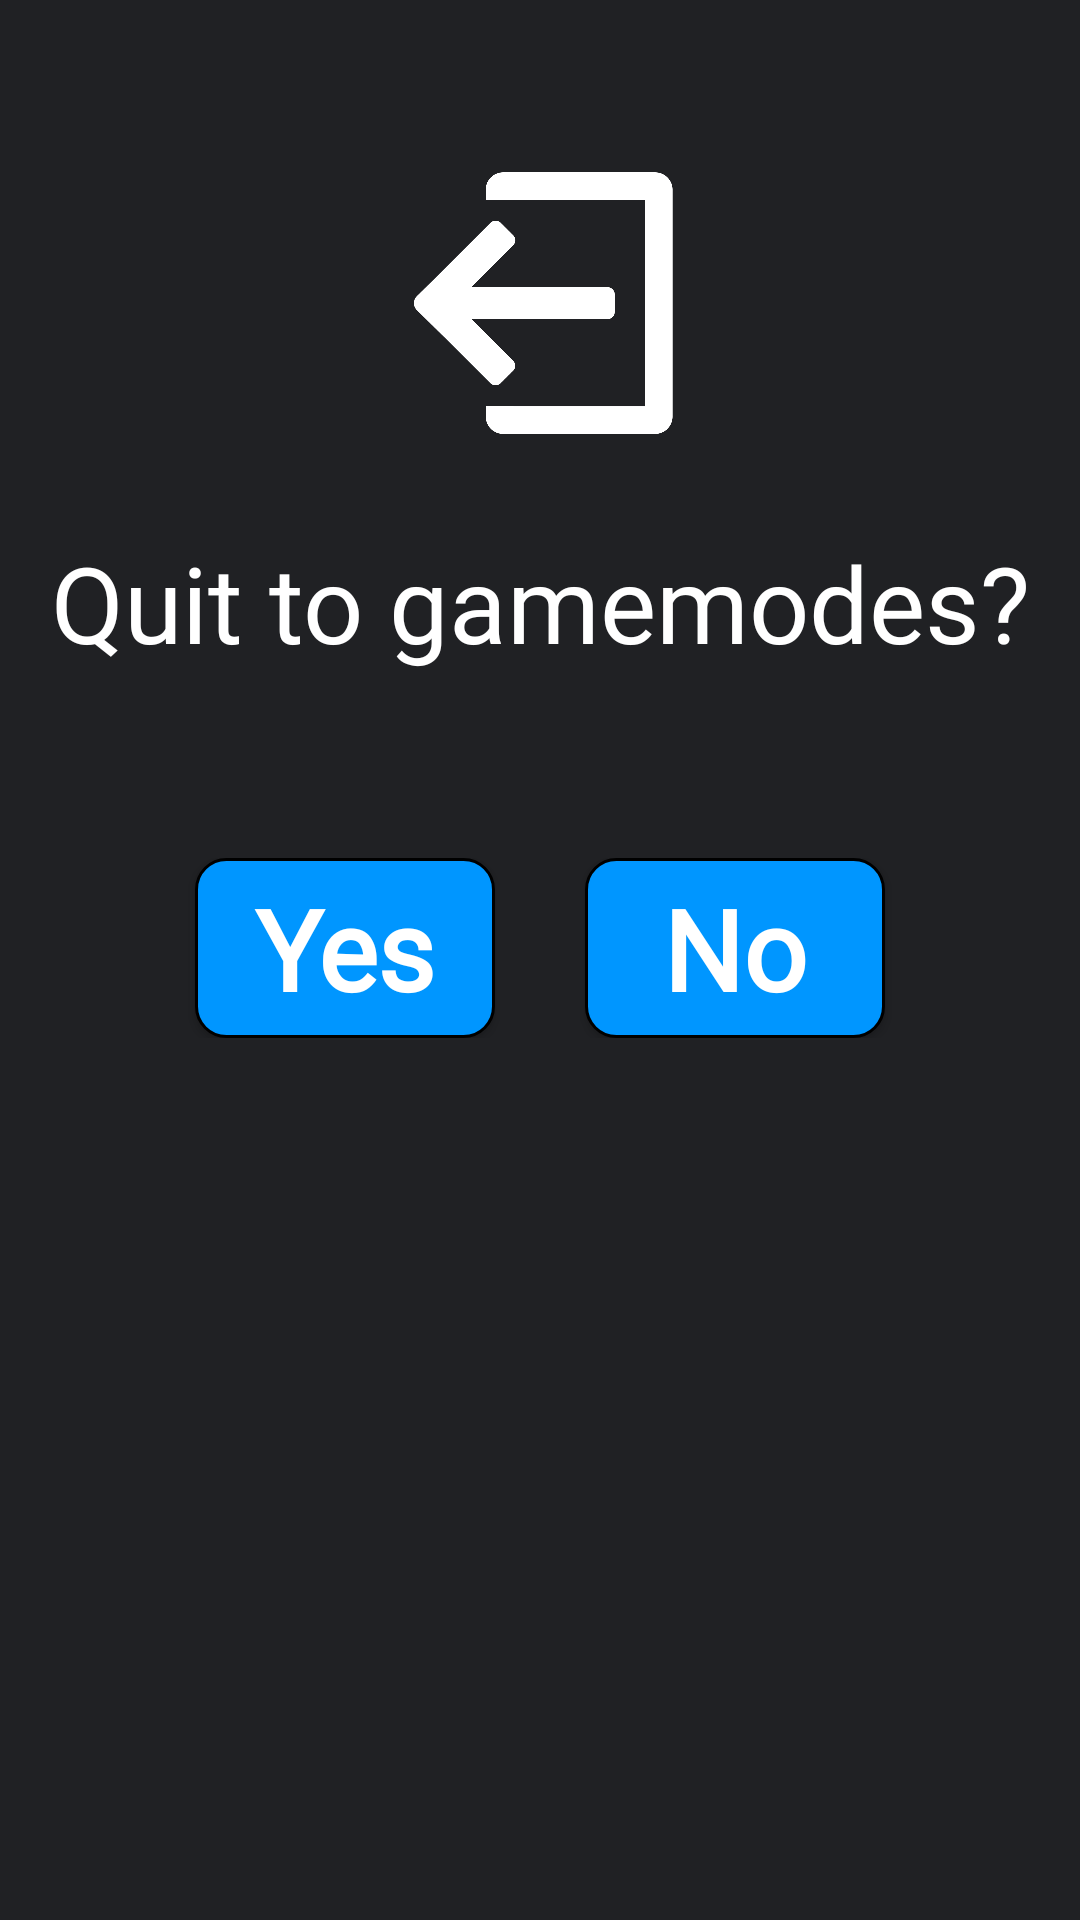

Icons on this 1080*1920 Android screen, each with the point to tap as point (x, y):
exit: point (543, 303)
